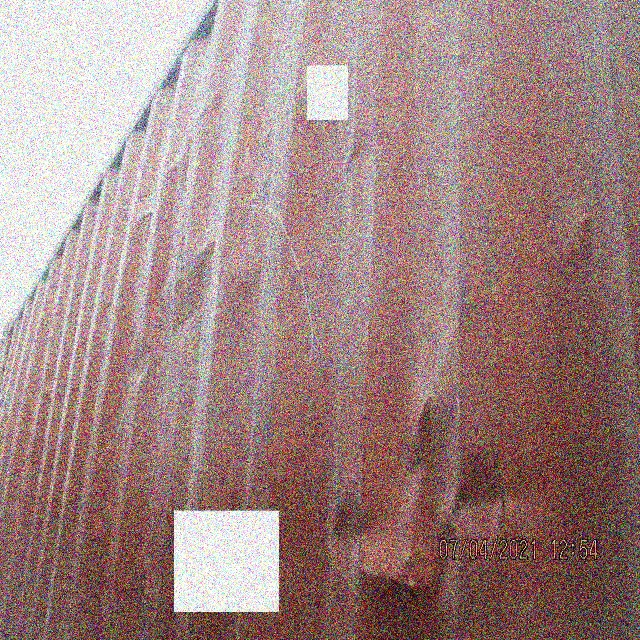Dent: (321, 354, 513, 617), (102, 178, 277, 401)
